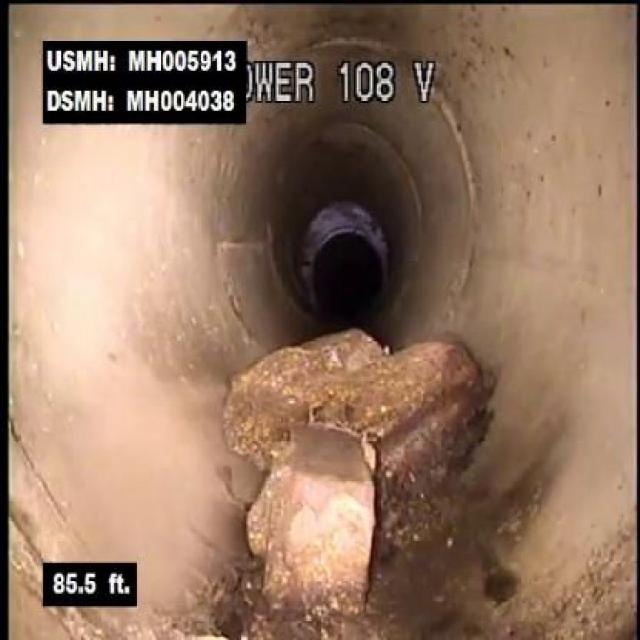Obstacle: (214, 289, 508, 620)
